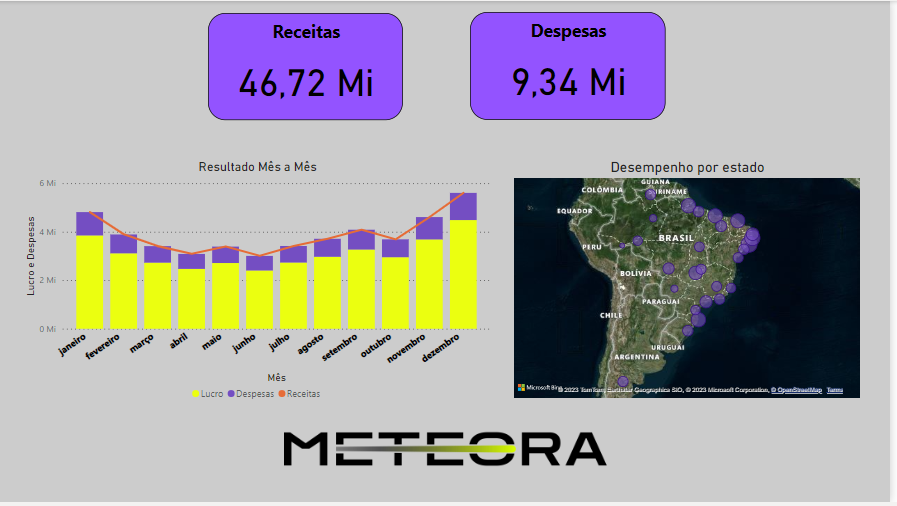

The page's visual inventory and layout, read from the dashboard file:
{"tool":"powerbi","page":{"name":"Página 1","canvas":[1280,720],"ordinal":0},"visuals":[{"type":"card","title":"Receitas","fields":{"Values":["Sum(itens_pedido.valor_total)"]},"box":[298.9,17.2,280.2,153.8],"z":0},{"type":"card","title":"Despesas","fields":{"Values":["Sum(itens_pedido.frete)"]},"box":[675.3,15.1,280.5,154.5],"z":1000},{"type":"lineStackedColumnComboChart","title":"Resultado Mês a Mês","fields":{"Category":["pedido.data_compra.Variation.Hierarquia de datas.Mês"],"Y2":["Sum(pedido.total)"],"Y":["Sum(itens_pedido.lucro)","Sum(itens_pedido.frete)"]},"box":[30.2,226.8,680.3,356.1],"z":2000},{"type":"map","title":"Desempenho por estado","fields":{"Category":["itens_pedido.estado"],"Size":["Sum(itens_pedido.valor_total)"]},"box":[734.1,226.8,507.3,347.7],"z":3000},{"type":"image","box":[386.4,566.1,507.3,154.5],"z":4000}]}

Visuals, with their boxes in screenshot pixels (x1, y1, x2, y2), scaled from the page's 1280x720 canvas onto the 897x506 screenshot:
"Receitas" card: rect(209, 12, 406, 120)
"Despesas" card: rect(473, 11, 670, 119)
"Resultado Mês a Mês" lineStackedColumnComboChart: rect(21, 159, 498, 410)
"Desempenho por estado" map: rect(514, 159, 870, 404)
image: rect(271, 398, 626, 505)
